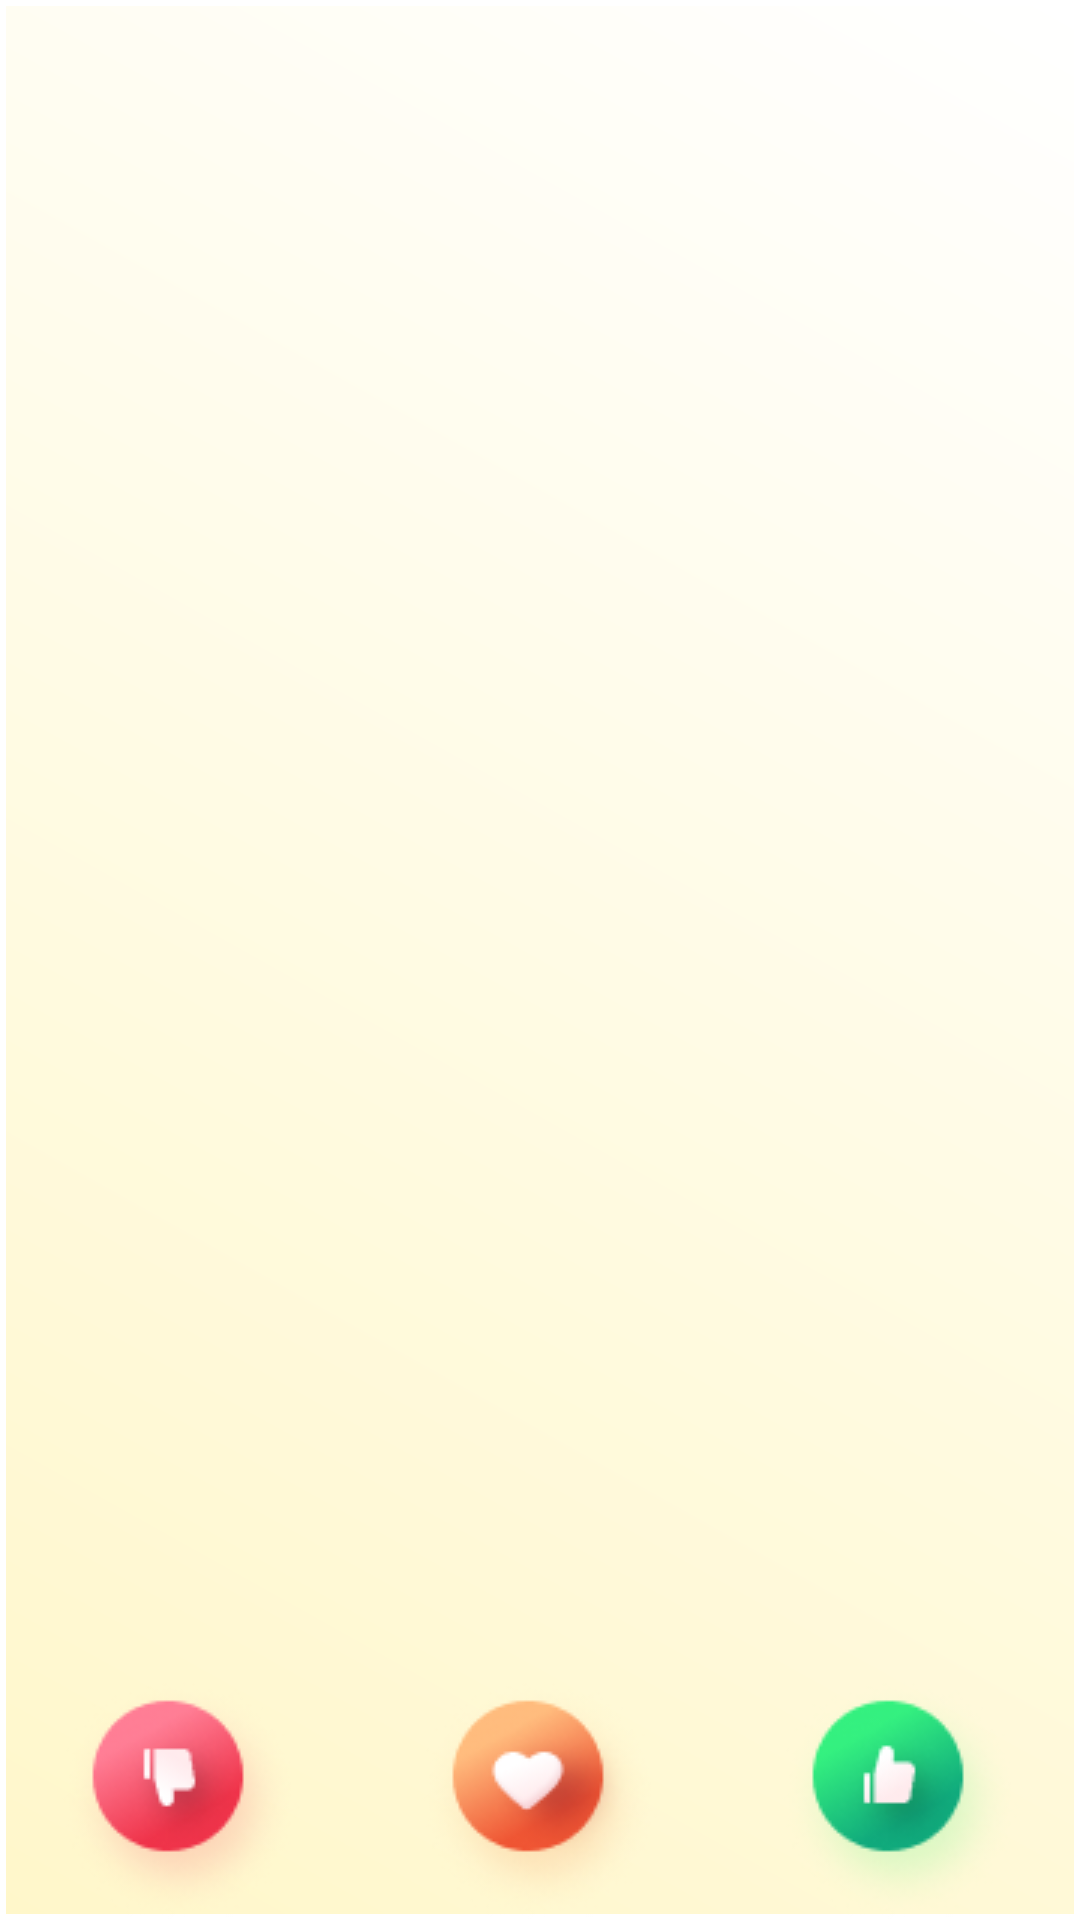

Named icons in this screenshot (1080px x 1920px) and their centers, (x,y):
dislike: (168,1783)
like: (889,1783)
love: (530,1782)
